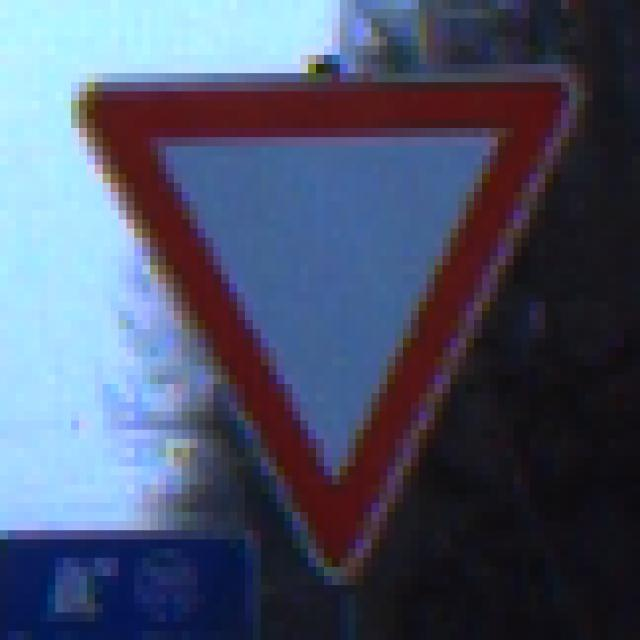Give Way: (64, 56, 586, 586)
